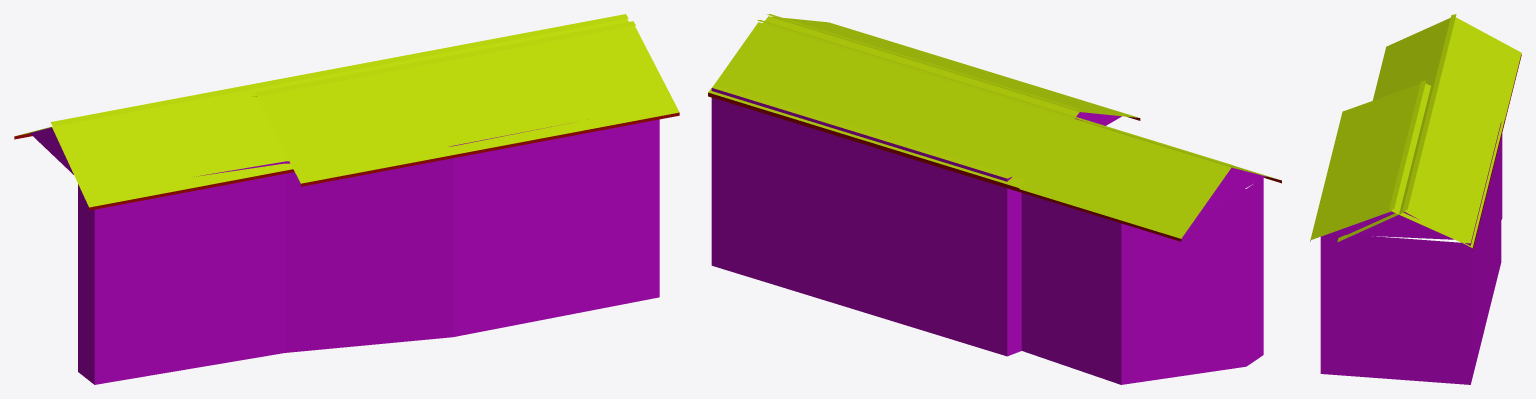
Rendered from scl_2.glb.
3 views of the same model, side by side, from view 1: azimuth 30°, elevation 25°; view 2: azimuth 150°, elevation 25°; view 3: azimuth 270°, elevation 25° (orthographic). The views are drawn at different scales.
Parts seen in each view (by area): view 1: scl_2; view 2: scl_2; view 3: scl_2.
Boxes of the visible parts, x1,y1,x2,y2 form: scl_2: (14, 14, 679, 384); scl_2: (708, 14, 1281, 384); scl_2: (1310, 14, 1521, 384).
Size of the model in its own units: 22.18 by 8.88 by 9.82.
